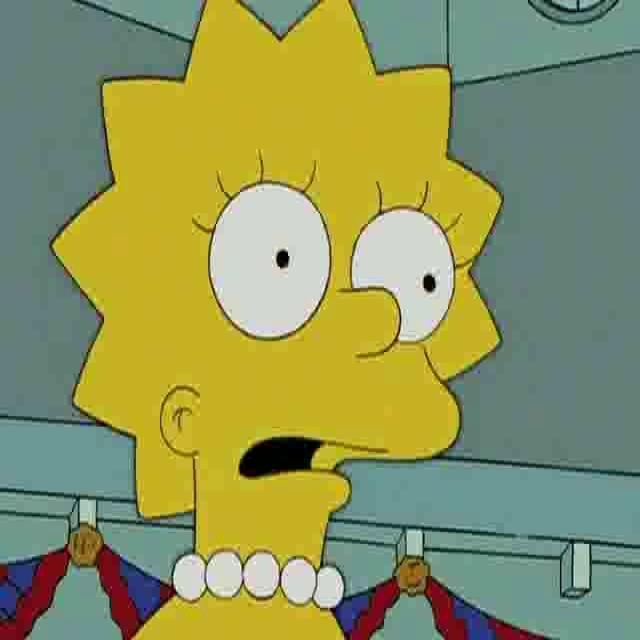Lisa Simpson: (47, 1, 505, 607)
